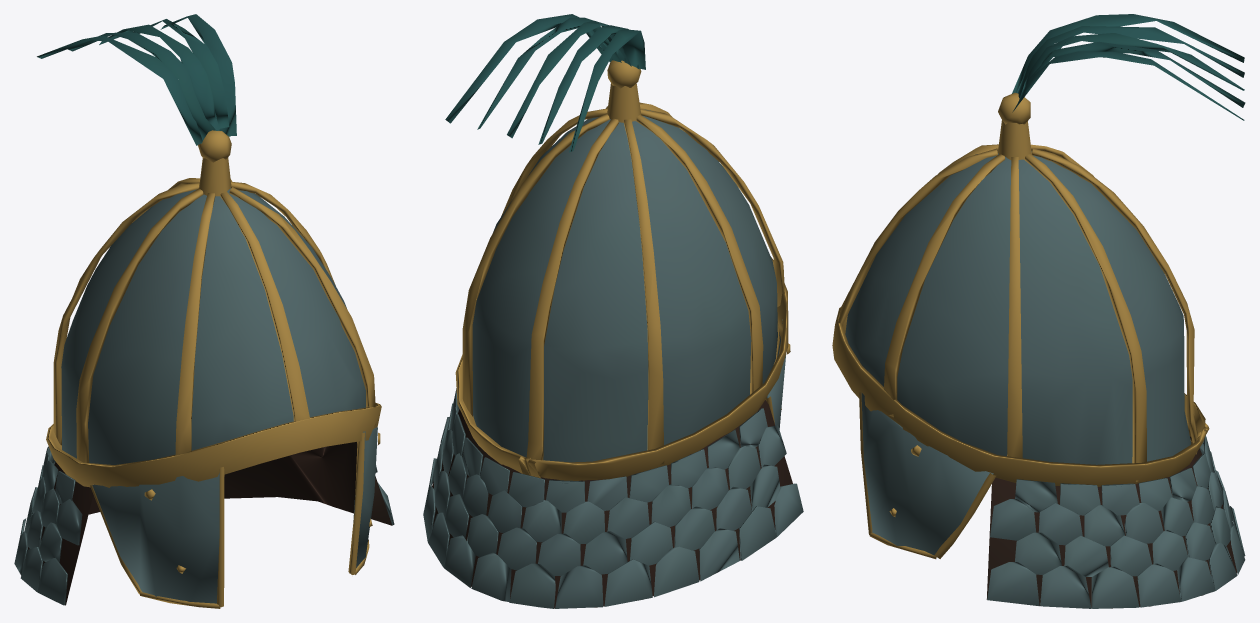
3 renders of one model, left to right at view 1: azimuth 30°, elevation 25°; view 2: azimuth 150°, elevation 25°; view 3: azimuth 270°, elevation 25°, orthographic.
Parts seen in each view (by area): view 1: blued scale plate, quilted linen lining; view 2: blued scale plate, quilted linen lining; view 3: blued scale plate, quilted linen lining.
Boxes of the visible parts, x1,y1,x2,y2 form: blued scale plate: (14, 130, 394, 608); quilted linen lining: (28, 14, 392, 605); blued scale plate: (423, 60, 803, 608); quilted linen lining: (432, 14, 792, 608); blued scale plate: (832, 92, 1245, 608); quilted linen lining: (986, 14, 1245, 608).
Size of the model in its own units: 0.2839 by 0.4265 by 0.3063.
